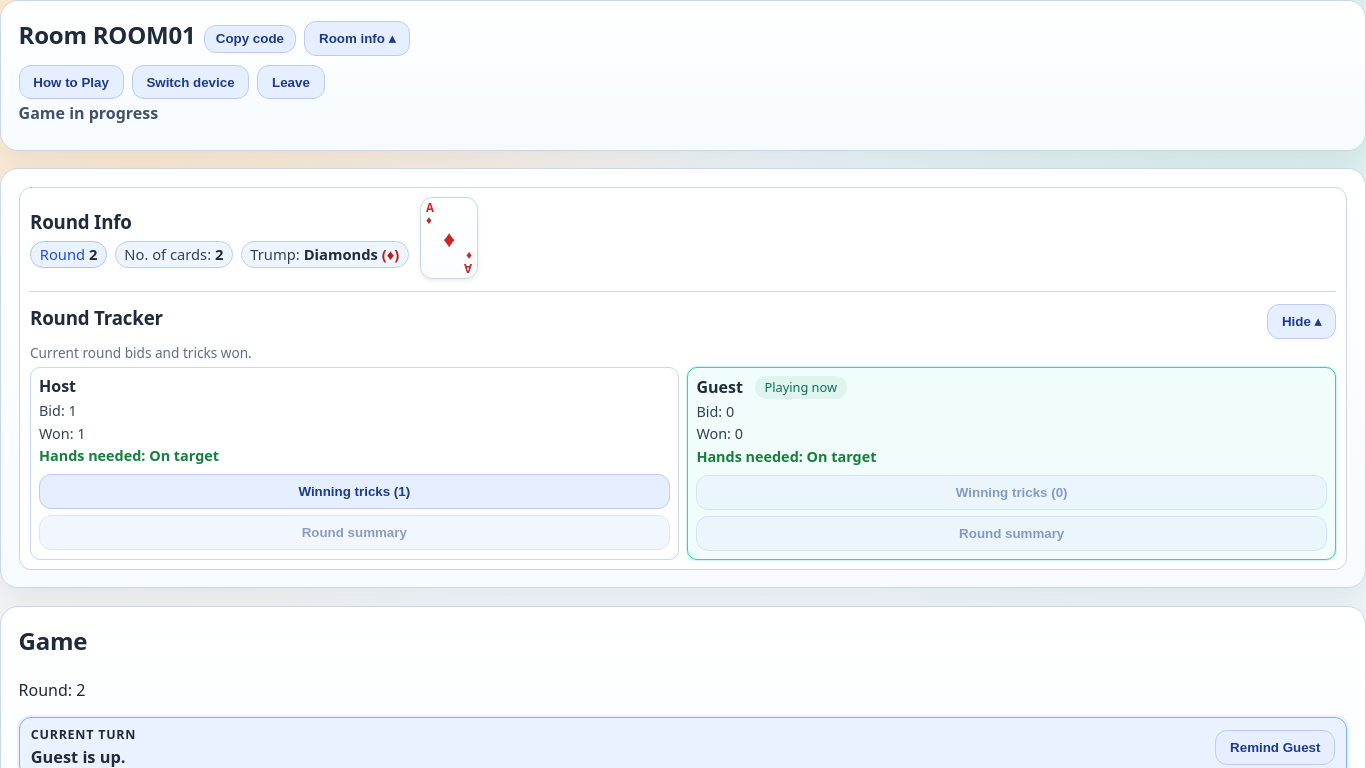
it: GameClient › shows round tracker and opens winning tricks modal
The width and height of the screenshot is (1366, 768).
Expected: the heading "Round Tracker" is shown, [30,305,163,330]
Expected: the text "Current turn" is shown, [31,727,136,744]
Click the button with aria-label "View winning tricks for Host" at (354, 492), box [39,474,670,509]
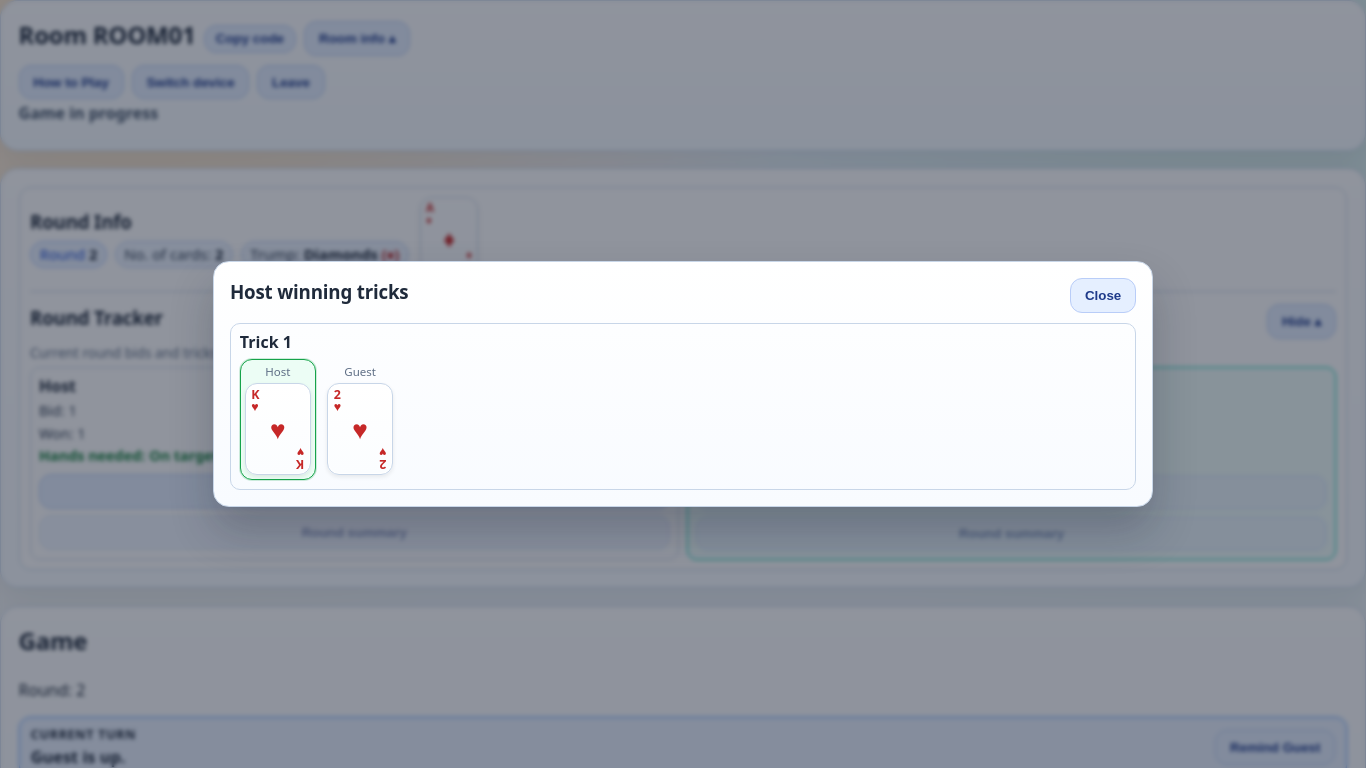
Expected: the dialog is shown, [213,261,1153,507]
Expected: the heading "Host winning tricks" is shown, [230,279,408,304]
Expected: the text "Trick 1" is shown, [240,331,292,353]
